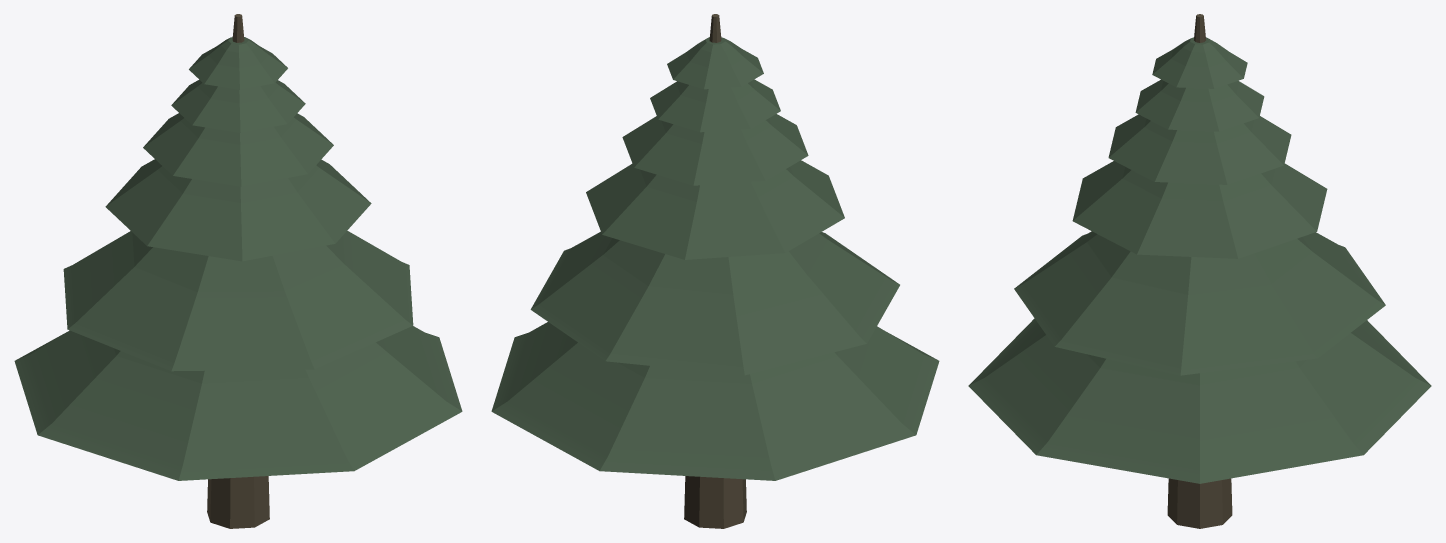
Rendered from PineTree.fbx.
3 views of the same model, side by side, from view 1: azimuth 30°, elevation 25°; view 2: azimuth 150°, elevation 25°; view 3: azimuth 270°, elevation 25° (orthographic).
Parts seen in each view (by area): view 1: pCylinder9; view 2: pCylinder9; view 3: pCylinder9.
Boxes of the visible parts, x1,y1,x2,y2 form: pCylinder9: (14, 14, 462, 528); pCylinder9: (491, 14, 939, 528); pCylinder9: (968, 14, 1431, 528).
Bounding box in the file's own units: 92.19 × 110 × 92.19.
